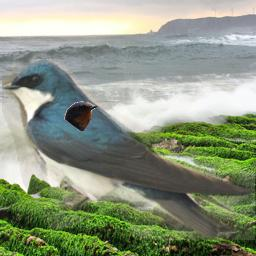Swallow: (2, 59, 255, 240), (64, 101, 99, 131)
